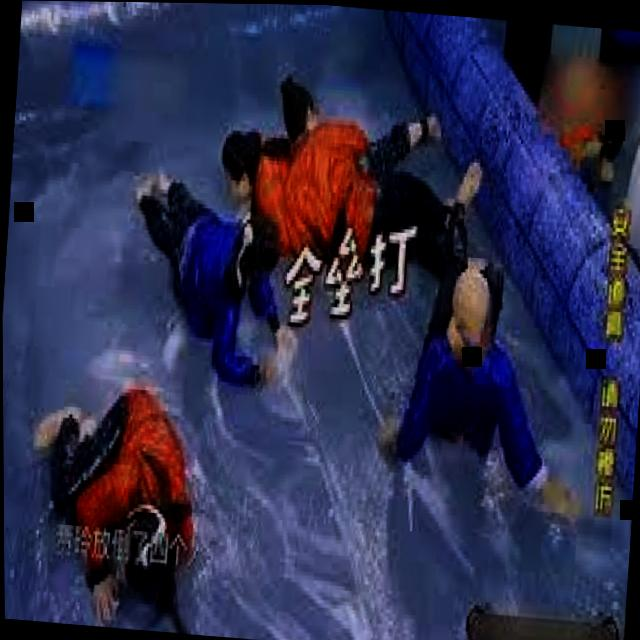Fall-Detected: (239, 43, 479, 271)
